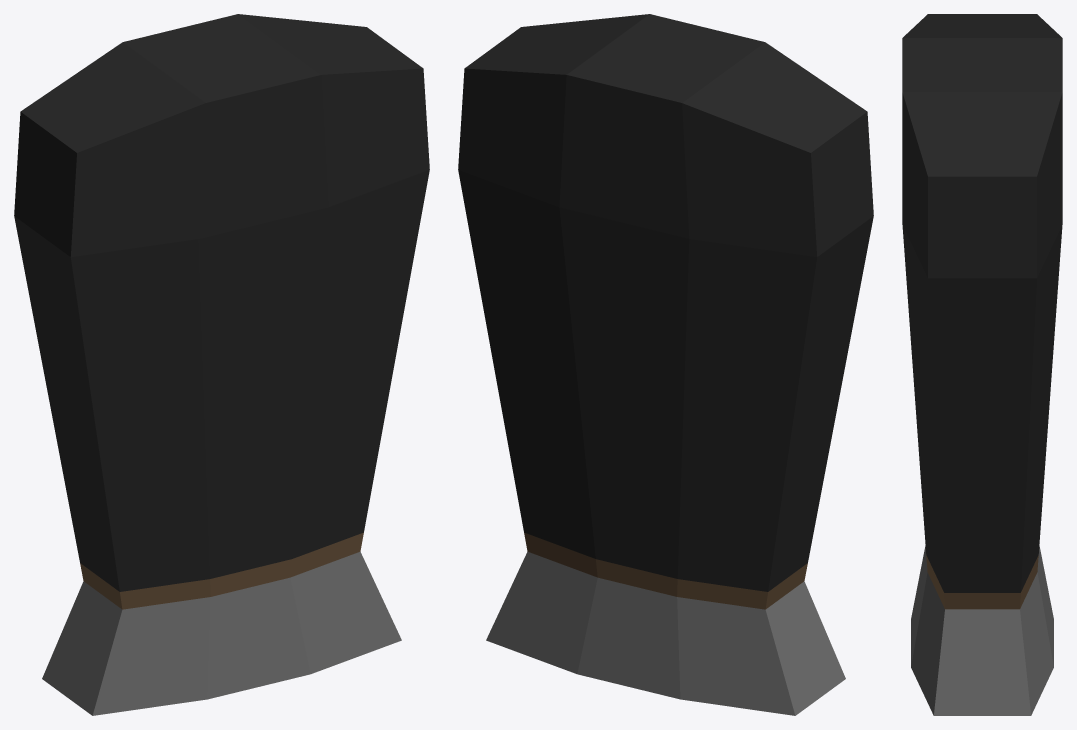
File: Body.fbx
The picture shows the model from 3 angles, left to right: view 1: azimuth 30°, elevation 25°; view 2: azimuth 150°, elevation 25°; view 3: azimuth 270°, elevation 25°; orthographic projection. The views are drawn at different scales.
Visible parts, largest first — view 1: Body; view 2: Body; view 3: Body.
Boxes of the visible parts, left/top/right/bottom form: Body: left=14, top=14, right=429, bottom=715; Body: left=458, top=14, right=873, bottom=715; Body: left=902, top=14, right=1062, bottom=715.
Size of the model in its own units: 805 by 1288 by 323.
